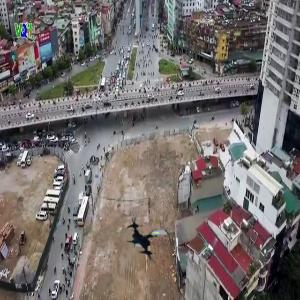drone: (124, 214, 177, 267)
